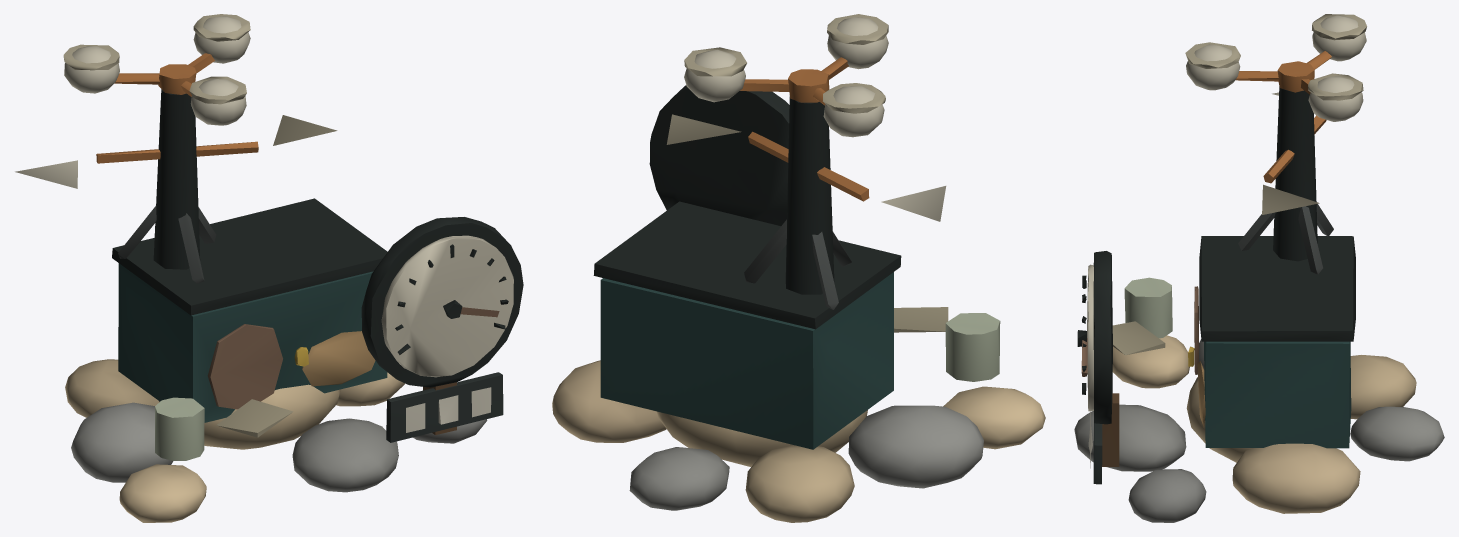
The model's file is storm_station_a_lod2.glb.
3 views of the same model, side by side, from view 1: azimuth 30°, elevation 25°; view 2: azimuth 150°, elevation 25°; view 3: azimuth 270°, elevation 25° (orthographic). The views are drawn at different scales.
Parts seen in each view (by area): view 1: Surface.001; view 2: Surface.001; view 3: Surface.001.
Boxes of the visible parts, left/top/right/bottom form: Surface.001: left=15, top=14, right=523, bottom=522; Surface.001: left=552, top=14, right=1045, bottom=522; Surface.001: left=1074, top=14, right=1444, bottom=522.
Size of the model in its own units: 4.66 by 4.51 by 4.02.
